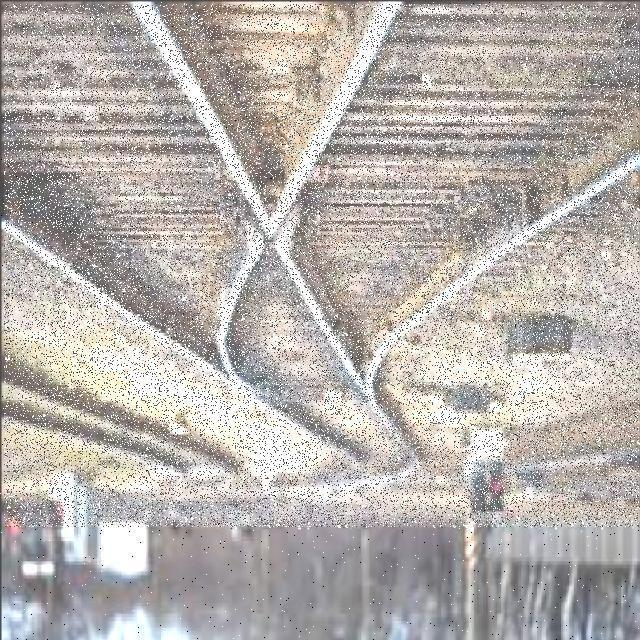rail: (6, 5, 640, 528)
